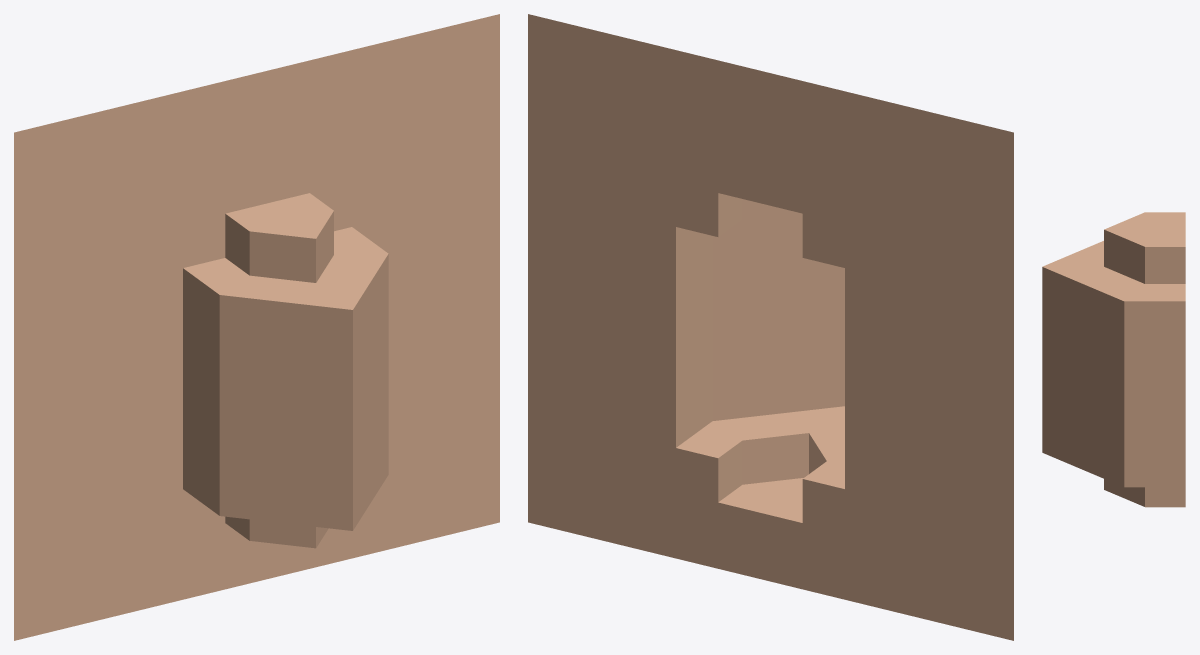
File: house3.obj
3 renders of one model, left to right at view 1: azimuth 30°, elevation 25°; view 2: azimuth 150°, elevation 25°; view 3: azimuth 270°, elevation 25°, orthographic. The views are drawn at different scales.
Parts seen in each view (by area): view 1: Line001; view 2: Line001; view 3: Line001.
Boxes of the visible parts, x1,y1,x2,y2 form: Line001: (14, 14, 499, 640); Line001: (528, 14, 1013, 640); Line001: (1042, 212, 1185, 507).
Bounding box in the file's own units: 230 × 230 × 70.
